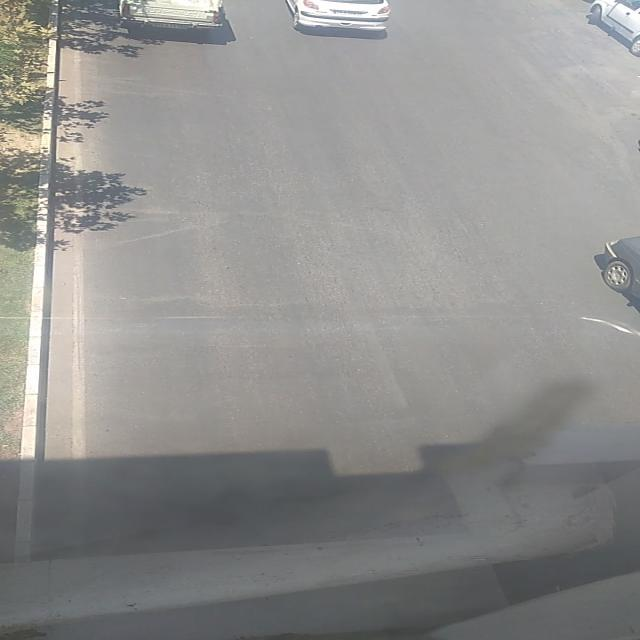car: (280, 1, 396, 31), (115, 2, 228, 30), (586, 1, 640, 58), (597, 241, 640, 311)
